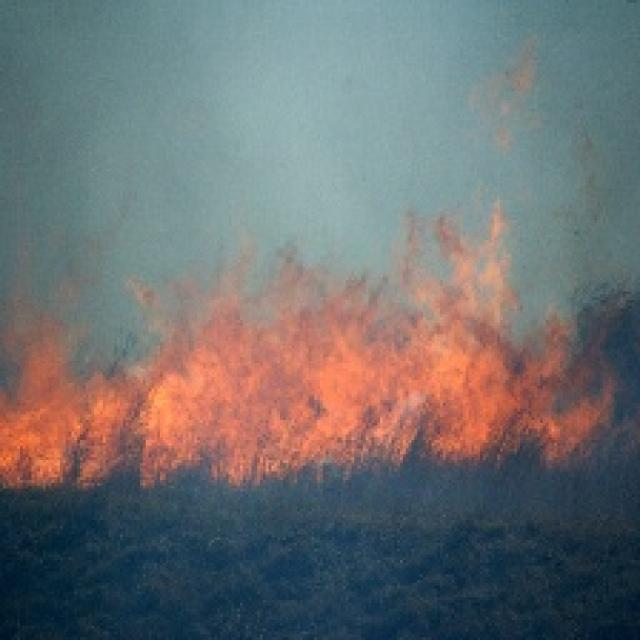Fire: (258, 251, 602, 466), (0, 306, 263, 486)
